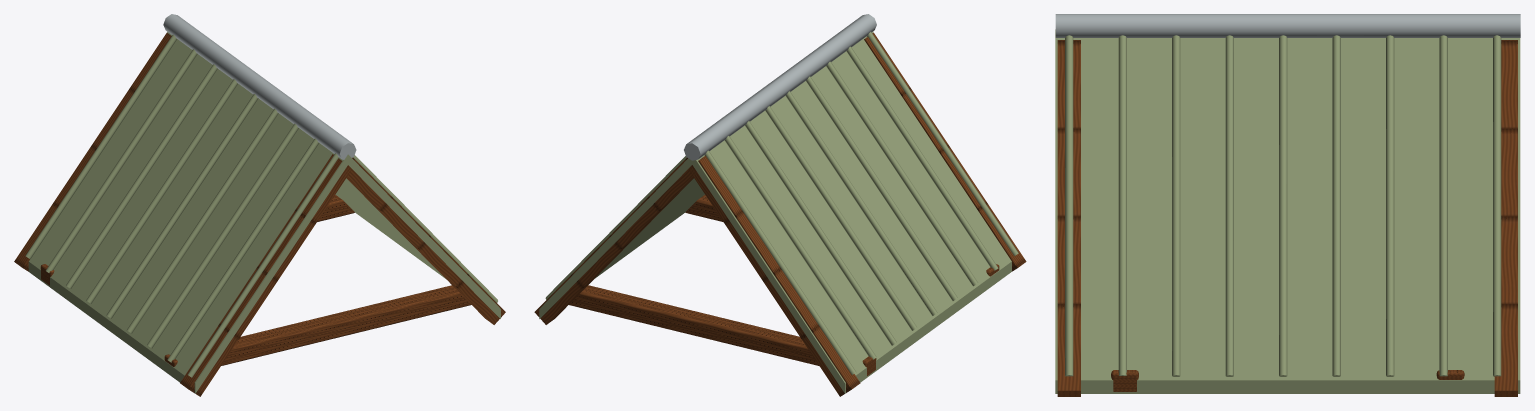
File: prehistoric-survivor-settlement-thatch-gable-roof-9c389cd3__23169.glb
3 renders of one model, left to right at view 1: azimuth 30°, elevation 25°; view 2: azimuth 150°, elevation 25°; view 3: azimuth 270°, elevation 25°, orthographic. The views are drawn at different scales.
Parts seen in each view (by area): view 1: thatch-gable-roof; view 2: thatch-gable-roof; view 3: thatch-gable-roof.
Boxes of the visible parts, x1,y1,x2,y2 form: thatch-gable-roof: (14, 14, 505, 396); thatch-gable-roof: (534, 14, 1026, 396); thatch-gable-roof: (1055, 14, 1520, 396).
Bounding box in the file's own units: 2.08 × 1.37 × 2.
3 materials, 1 textured.
